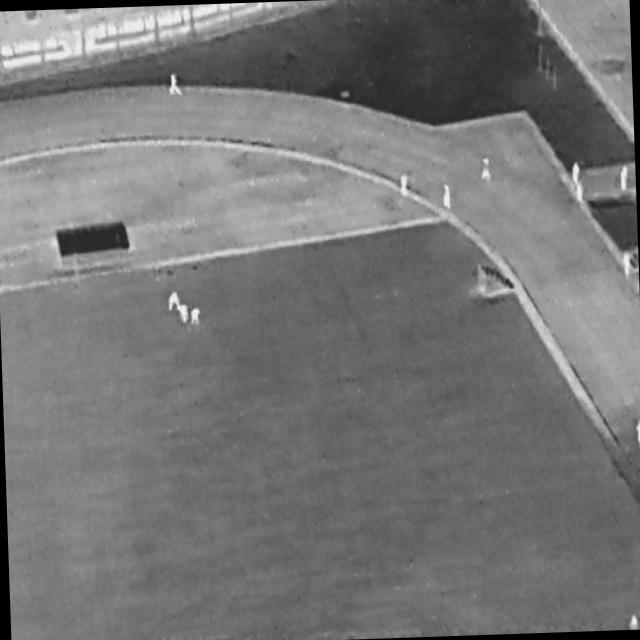person: (169, 74, 183, 97), (442, 184, 453, 210), (624, 251, 633, 280), (620, 166, 630, 192), (482, 158, 493, 181), (169, 292, 181, 312), (178, 305, 190, 325), (400, 174, 410, 197), (572, 164, 582, 185), (575, 182, 585, 202), (628, 613, 639, 631), (192, 308, 202, 326), (636, 420, 640, 451)
